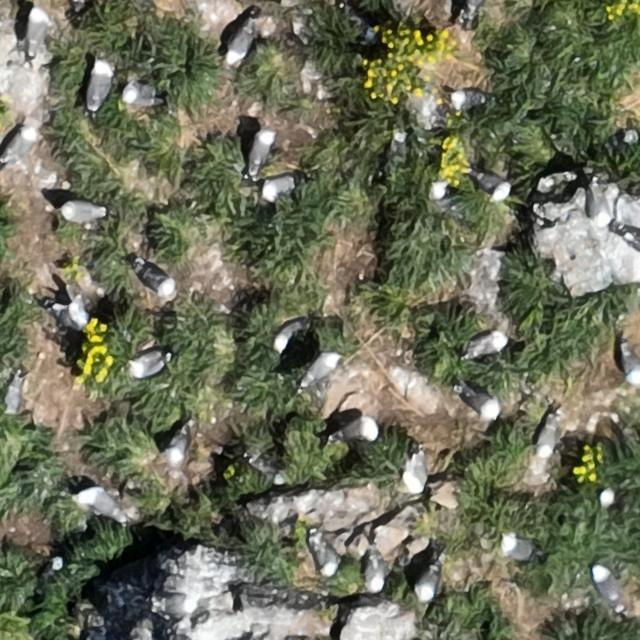umineko: (362, 540, 387, 595), (333, 417, 381, 444), (593, 569, 623, 612), (585, 180, 610, 229), (120, 79, 164, 106), (80, 489, 121, 516), (4, 126, 36, 160), (88, 63, 111, 108), (166, 421, 189, 466), (462, 391, 500, 418), (140, 266, 175, 294), (304, 352, 336, 382), (228, 28, 254, 63), (475, 174, 509, 200), (251, 130, 274, 168), (469, 332, 506, 355), (61, 200, 102, 220), (314, 542, 338, 576), (57, 302, 88, 328), (251, 458, 282, 482), (28, 11, 45, 54), (130, 354, 163, 376), (274, 322, 299, 351), (416, 568, 437, 602), (503, 537, 534, 560), (262, 178, 294, 200), (539, 419, 558, 456), (406, 454, 425, 490), (621, 348, 639, 384), (6, 378, 23, 413), (453, 90, 485, 108), (624, 231, 639, 253), (466, 0, 487, 15)
